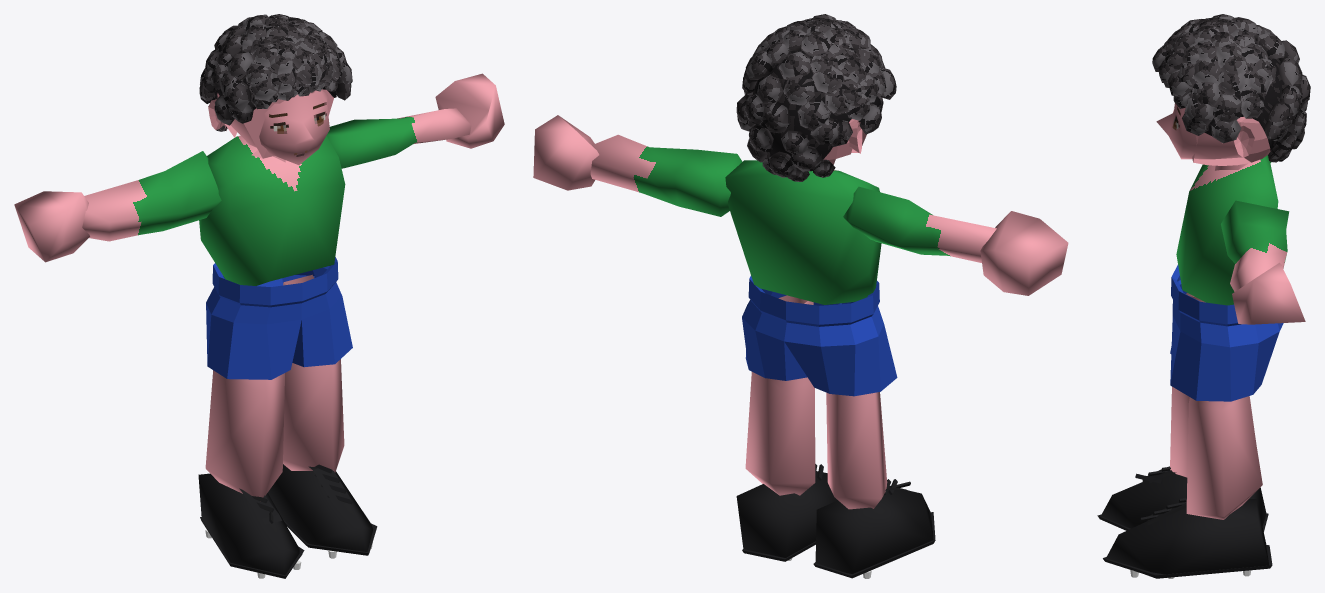
Rendered from 04-cacheado-curto_preto.glb.
3 views of the same model, side by side, from view 1: azimuth 30°, elevation 25°; view 2: azimuth 150°, elevation 25°; view 3: azimuth 270°, elevation 25° (orthographic). The views are drawn at different scales.
Visible parts, largest first — view 1: Camisa_Tronco, Bermuda, Cabelo, Perna.R, Braco.R, Perna.L, Chuteira.R, Chuteira.L, Braco.L, Mao.R, Cabeca, Mao.L (+3 smaller); view 2: Cabelo, Camisa_Tronco, Bermuda, Perna.L, Braco.L, Chuteira.R, Perna.R, Braco.R, Mao.R, Chuteira.L, Mao.L, Chuteira_Sola.R; view 3: Cabelo, Bermuda, Chuteira.L, Camisa_Tronco, Perna.L, Braco.L, Mao.L, Chuteira.R, Cabeca, Perna.R, Cranio, Chuteira_Sola.L (+3 smaller).
Boxes of the visible parts, x1,y1,x2,y2 form: Camisa_Tronco: (199,135,345,285); Bermuda: (206,257,352,379); Cabelo: (199,14,352,131); Perna.R: (205,370,284,501); Braco.R: (82,151,221,241); Perna.L: (283,274,344,472); Chuteira.R: (198,473,302,574); Chuteira.L: (267,464,373,551); Braco.L: (326,108,471,168); Mao.R: (14,191,89,262); Cabeca: (230,90,329,164); Mao.L: (435,73,504,148); Cabelo: (736,14,896,181); Camisa_Tronco: (725,160,881,304); Bermuda: (742,276,897,396); Perna.L: (745,295,815,495); Braco.L: (590,134,742,216); Chuteira.R: (815,486,933,573); Perna.R: (826,392,887,509); Braco.R: (843,186,996,262); Mao.R: (980,211,1068,295); Chuteira.L: (736,471,837,557); Mao.L: (533,115,599,190); Chuteira_Sola.R: (813,512,935,578); Cabelo: (1152,14,1310,162); Bermuda: (1170,265,1283,401); Chuteira.L: (1106,499,1269,578); Camisa_Tronco: (1176,155,1278,305); Perna.L: (1186,396,1262,519); Braco.L: (1221,200,1289,291); Mao.L: (1232,262,1305,324); Chuteira.R: (1101,470,1266,528); Cabeca: (1156,103,1242,159); Perna.R: (1170,293,1255,477); Cranio: (1192,116,1270,165); Chuteira_Sola.L: (1103,545,1272,578).
Bounding box in the file's own units: 0.4523 × 0.4551 × 0.1655.
Materials: 3 (3 with a texture image).
